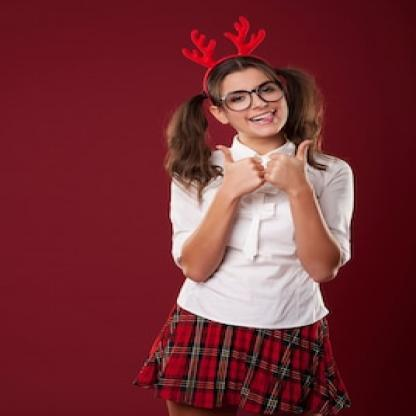thumb_up: (210, 140, 267, 197)
